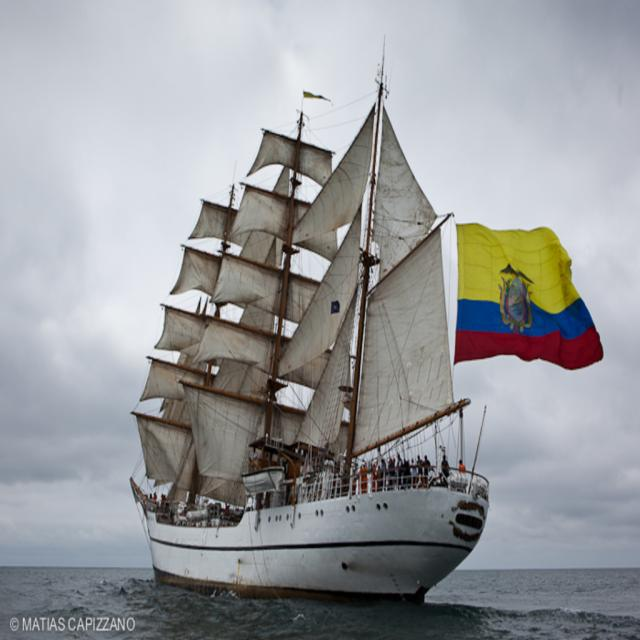Boat: (129, 29, 605, 611)
